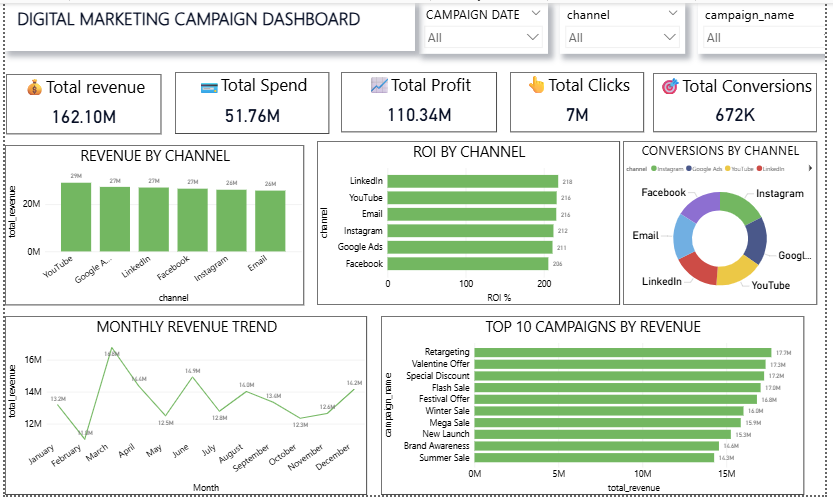

Layout of this report page (visuals, bound fields, positions):
{"tool":"powerbi","page":{"name":"Digital_market_project","canvas":[1500,900],"ordinal":0},"visuals":[{"type":"card","title":"💰Total revenue","fields":{"Values":["digital_marketing.total_revenue"]},"box":[1.8,129.9,283.5,109.8],"z":0},{"type":"card","title":"💳Total Spend ","fields":{"Values":["digital_marketing.Total_Spend"]},"box":[311,126.2,281.7,113.4],"z":1000},{"type":"card","title":"📈Total Profit","fields":{"Values":["digital_marketing.Total Profit"]},"box":[614.6,126.2,285.4,109.8],"z":2000},{"type":"card","title":"👆Total  Clicks","fields":{"Values":["digital_marketing.Total_clicks"]},"box":[923.8,126.2,245.1,109.8],"z":3000},{"type":"card","title":"🎯Total Conversions","fields":{"Values":["digital_marketing.Total_Conversions"]},"box":[1185.4,128,300,107.9],"z":4000},{"type":"clusteredColumnChart","title":"REVENUE BY CHANNEL","fields":{"Category":["digital_marketing.channel"],"Y":["digital_marketing.total_revenue"]},"box":[0,259.8,547,292.7],"z":5000},{"type":"barChart","title":"TOP 10 CAMPAIGNS BY REVENUE","fields":{"Category":["digital_marketing.campaign_name"],"Y":["digital_marketing.total_revenue"]},"box":[687.8,572.6,773.8,327.4],"z":6000},{"type":"lineChart","title":"MONTHLY REVENUE TREND","fields":{"Category":["digital_marketing.campaign_date.Variation.Date Hierarchy.Month"],"Y":["digital_marketing.total_revenue"]},"box":[0,572.6,662.2,327.4],"z":7000},{"type":"barChart","title":"ROI BY CHANNEL","fields":{"Category":["digital_marketing.channel"],"Y":["digital_marketing.ROI %"]},"box":[570.7,252.4,554.3,300],"z":8000},{"type":"donutChart","title":"CONVERSIONS BY CHANNEL","fields":{"Category":["digital_marketing.channel"],"Y":["digital_marketing.Total_Conversions"]},"box":[1130.5,252.4,354.9,300],"z":9000},{"type":"slicer","fields":{"Values":["digital_marketing.campaign_name"]},"box":[1267.7,0,268.9,93.3],"z":10000},{"type":"slicer","fields":{"Values":["digital_marketing.channel"]},"box":[1015.2,0,228.7,93.3],"z":11000},{"type":"slicer","fields":{"Values":["digital_marketing.campaign_date.Variation.Date Hierarchy.Year","digital_marketing.campaign_date.Variation.Date Hierarchy.Quarter","digital_marketing.campaign_date.Variation.Date Hierarchy.Month","digital_marketing.campaign_date.Variation.Date Hierarchy.Day"]},"box":[757.3,0,236,93.3],"z":12000},{"type":"textbox","box":[0,0,750,87.8],"z":13000}]}

Visuals, with their boxes in screenshot pixels (x1, y1, x2, y2), scaled from the page's 1500x900 canvas onto the 833x497 screenshot:
"💰Total revenue" card: region(1, 72, 158, 132)
"💳Total Spend " card: region(173, 70, 329, 132)
"📈Total Profit" card: region(341, 70, 500, 130)
"👆Total  Clicks" card: region(513, 70, 649, 130)
"🎯Total Conversions" card: region(658, 71, 825, 130)
"REVENUE BY CHANNEL" clusteredColumnChart: region(0, 143, 304, 305)
"TOP 10 CAMPAIGNS BY REVENUE" barChart: region(382, 316, 812, 496)
"MONTHLY REVENUE TREND" lineChart: region(0, 316, 368, 496)
"ROI BY CHANNEL" barChart: region(317, 139, 625, 305)
"CONVERSIONS BY CHANNEL" donutChart: region(628, 139, 825, 305)
slicer - digital_marketing.campaign_name: region(704, 0, 832, 52)
slicer - digital_marketing.channel: region(564, 0, 691, 52)
slicer - digital_marketing.campaign_date.Variation.Date Hierarchy.Year x digital_marketing.campaign_date.Variation.Date Hierarchy.Quarter: region(421, 0, 552, 52)
textbox: region(0, 0, 416, 48)
